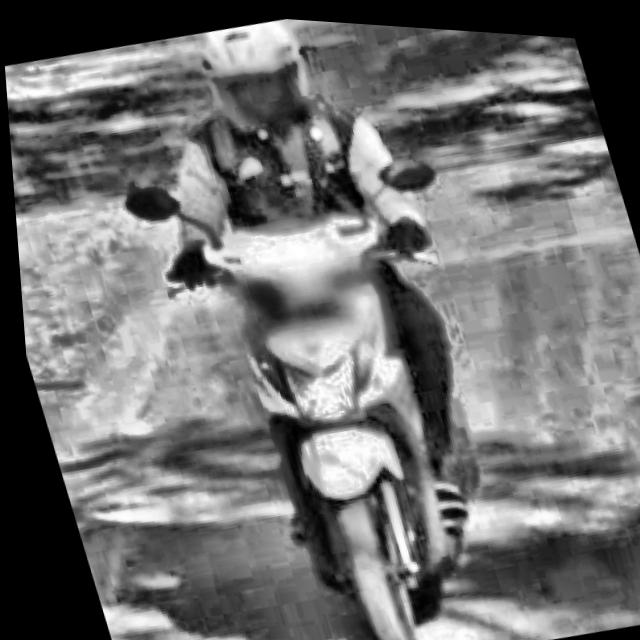motorcycle: (104, 103, 569, 640)
